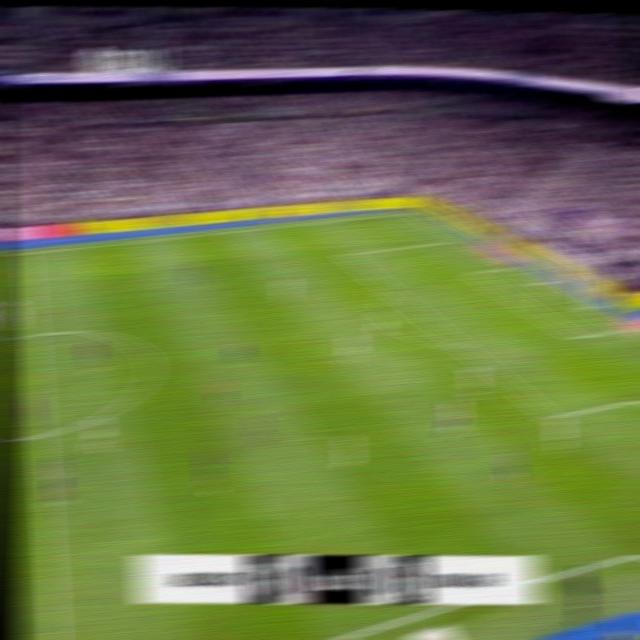bigarea_bottom_inner: (541, 406, 561, 425)
bigarea_top_inner: (338, 247, 355, 260)
bigarea_top_outter: (451, 231, 469, 243)
bottom_arc_area_intersection: (453, 338, 469, 352)
halfcircle_bottom: (29, 420, 51, 447)
halfcircle_top: (20, 320, 43, 346)
midline_top_intersection: (16, 244, 35, 260)
smallarea_bottom_inner: (568, 327, 585, 344)
smallarea_bottom_outter: (614, 320, 632, 334)
smallarea_top_inner: (466, 267, 481, 277)
top_arc_area_intersection: (384, 282, 400, 297)
